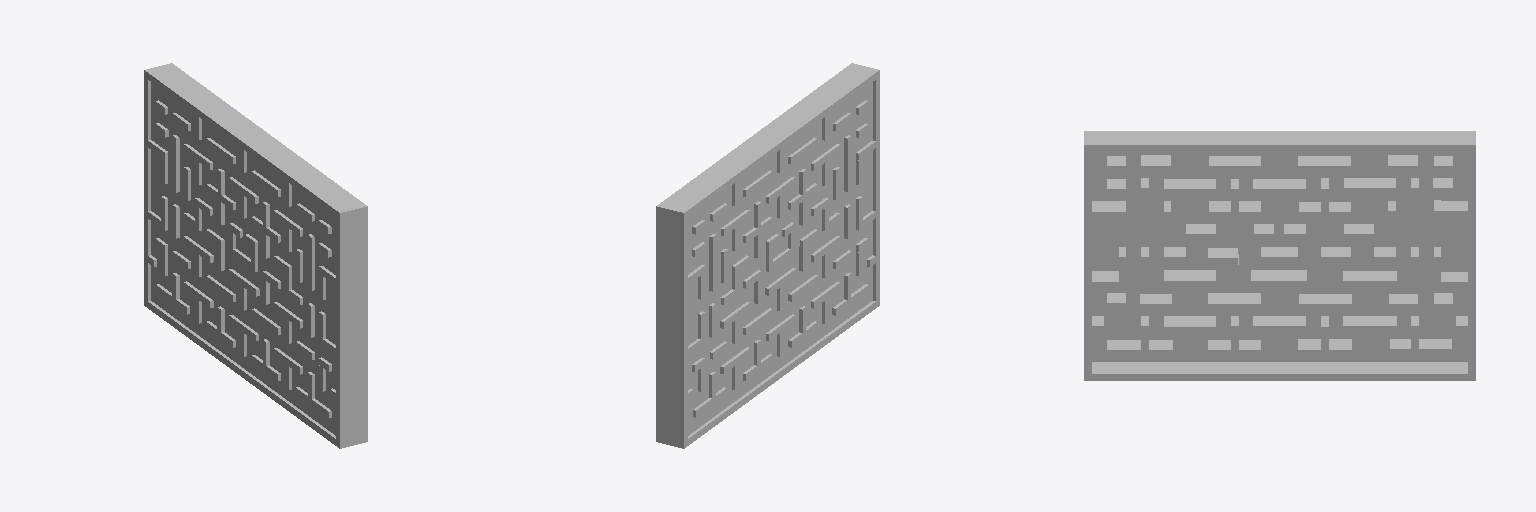
The model's file is mapa_rotado.obj.
3 views of the same model, side by side, from view 1: azimuth 30°, elevation 25°; view 2: azimuth 150°, elevation 25°; view 3: azimuth 270°, elevation 25° (orthographic).
Parts seen in each view (by area): view 1: Plane, Cube.005, Cube.002, Cube.001, Cube, Cube.003; view 2: Plane, Cube.005, Cube.003, Cube.001, Cube, Cube.002; view 3: Plane, Cube.005, Cube.001, Cube, Cube.002, Cube.003.
Boxes of the visible parts, x1=… form: Plane: x1=151, y1=82, x2=335, y2=435; Cube.005: x1=148, y1=100, x2=335, y2=417; Cube.002: x1=336, y1=213, x2=367, y2=441; Cube.001: x1=144, y1=63, x2=367, y2=219; Cube: x1=144, y1=299, x2=367, y2=448; Cube.003: x1=144, y1=77, x2=150, y2=300; Plane: x1=688, y1=82, x2=872, y2=435; Cube.005: x1=688, y1=113, x2=875, y2=417; Cube.003: x1=656, y1=213, x2=687, y2=441; Cube.001: x1=656, y1=63, x2=879, y2=219; Cube: x1=656, y1=299, x2=879, y2=448; Cube.002: x1=873, y1=77, x2=879, y2=300; Plane: x1=1092, y1=152, x2=1467, y2=361; Cube.005: x1=1092, y1=152, x2=1467, y2=357; Cube.001: x1=1084, y1=131, x2=1475, y2=151; Cube: x1=1084, y1=362, x2=1475, y2=380; Cube.002: x1=1084, y1=152, x2=1091, y2=373; Cube.003: x1=1468, y1=152, x2=1475, y2=373.
Bounding box in the file's own units: 12.54 × 101 × 152.